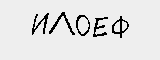І: (22, 13, 35, 35)
Р: (55, 13, 74, 37), (89, 15, 103, 35)
С: (73, 14, 89, 34)
Т: (33, 13, 53, 37)
Щ: (103, 15, 138, 37)
